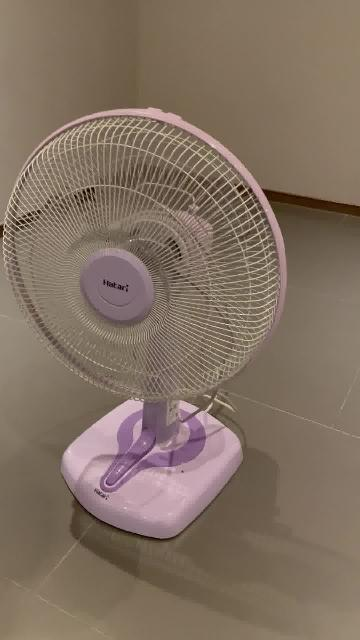Fan: (3, 109, 287, 542)
